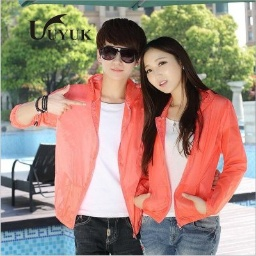face: (141, 35, 205, 96), (95, 16, 147, 82)
